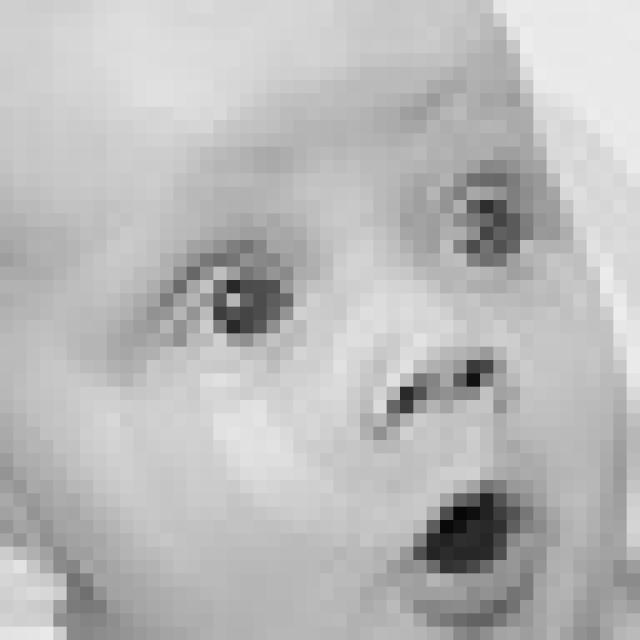surprise: (117, 70, 567, 640)
